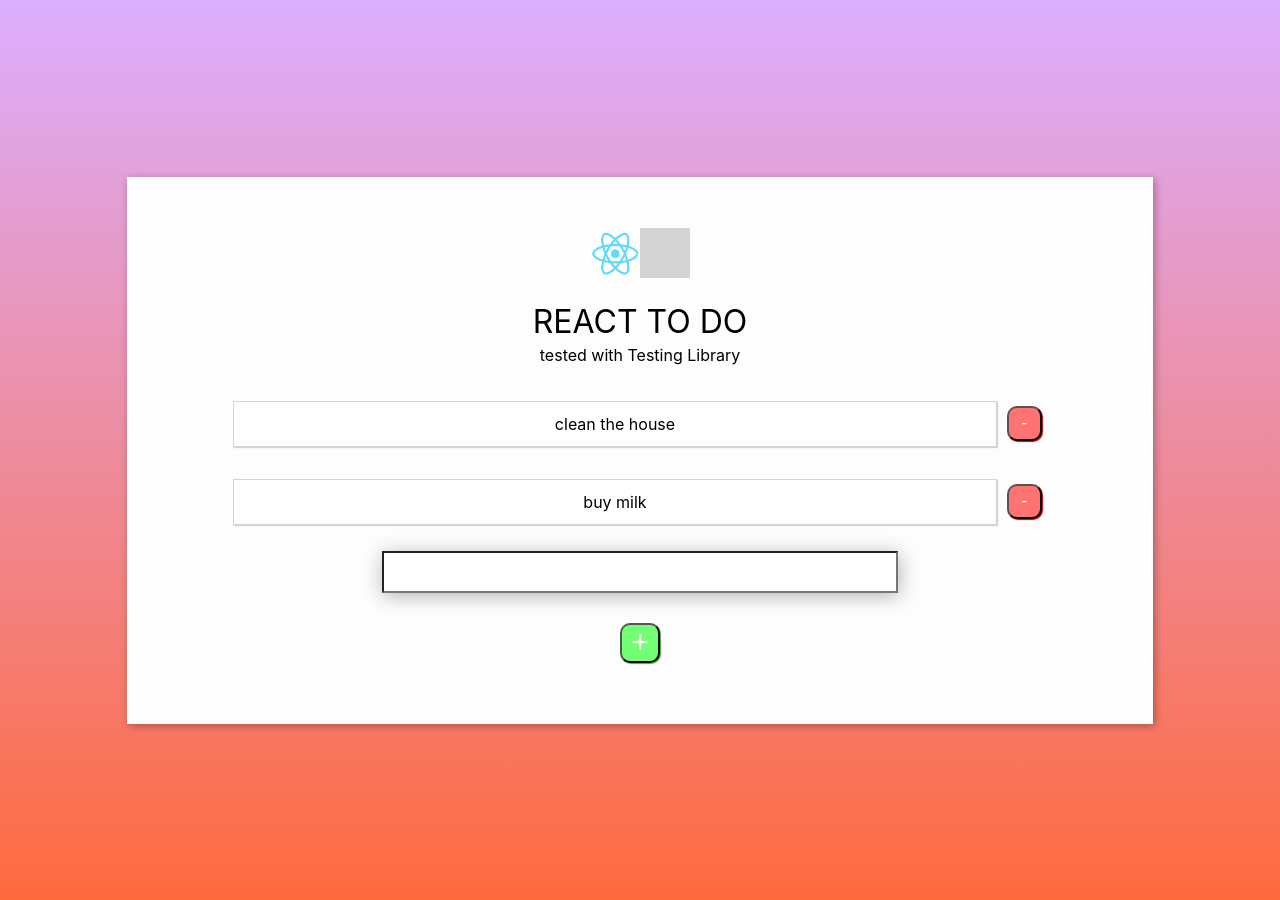
Test: <ToDo/> › Deleting items › When the delete button is pressed for the first todo item, it removes the entire item
Check: the number of elements with test id "todo-item" is 2, box x1=233 y1=400 x2=1042 y2=446; x1=233 y1=478 x2=1042 y2=524
What coordinates should you click on to do the following:
click the button with test id "delete" in the row of "clean the house"
I would click on:
 (1024, 424)
Its box is x1=1007 y1=406 x2=1042 y2=441.
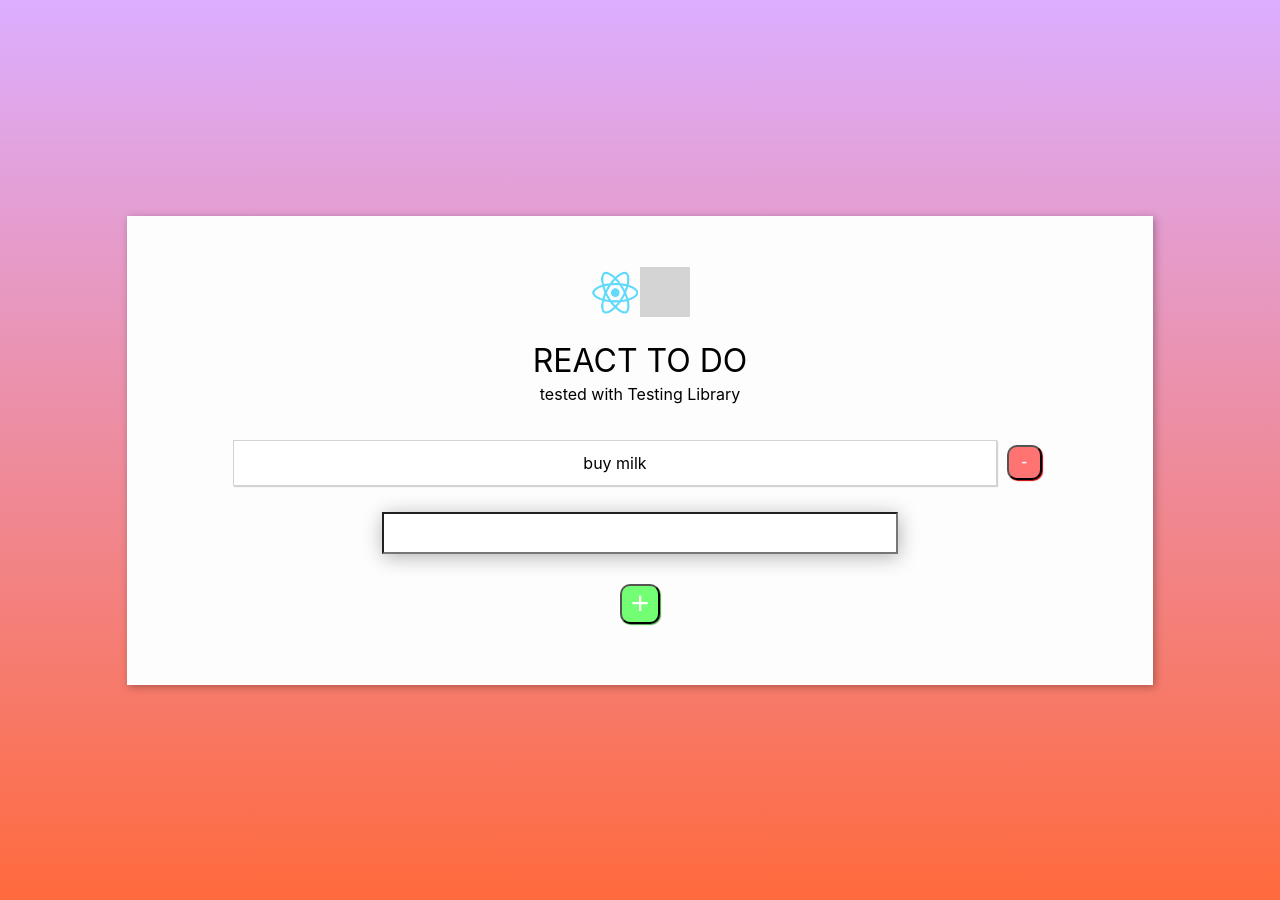
Check: the number of elements with test id "todo-item" is 1, box x1=233 y1=440 x2=1042 y2=486
